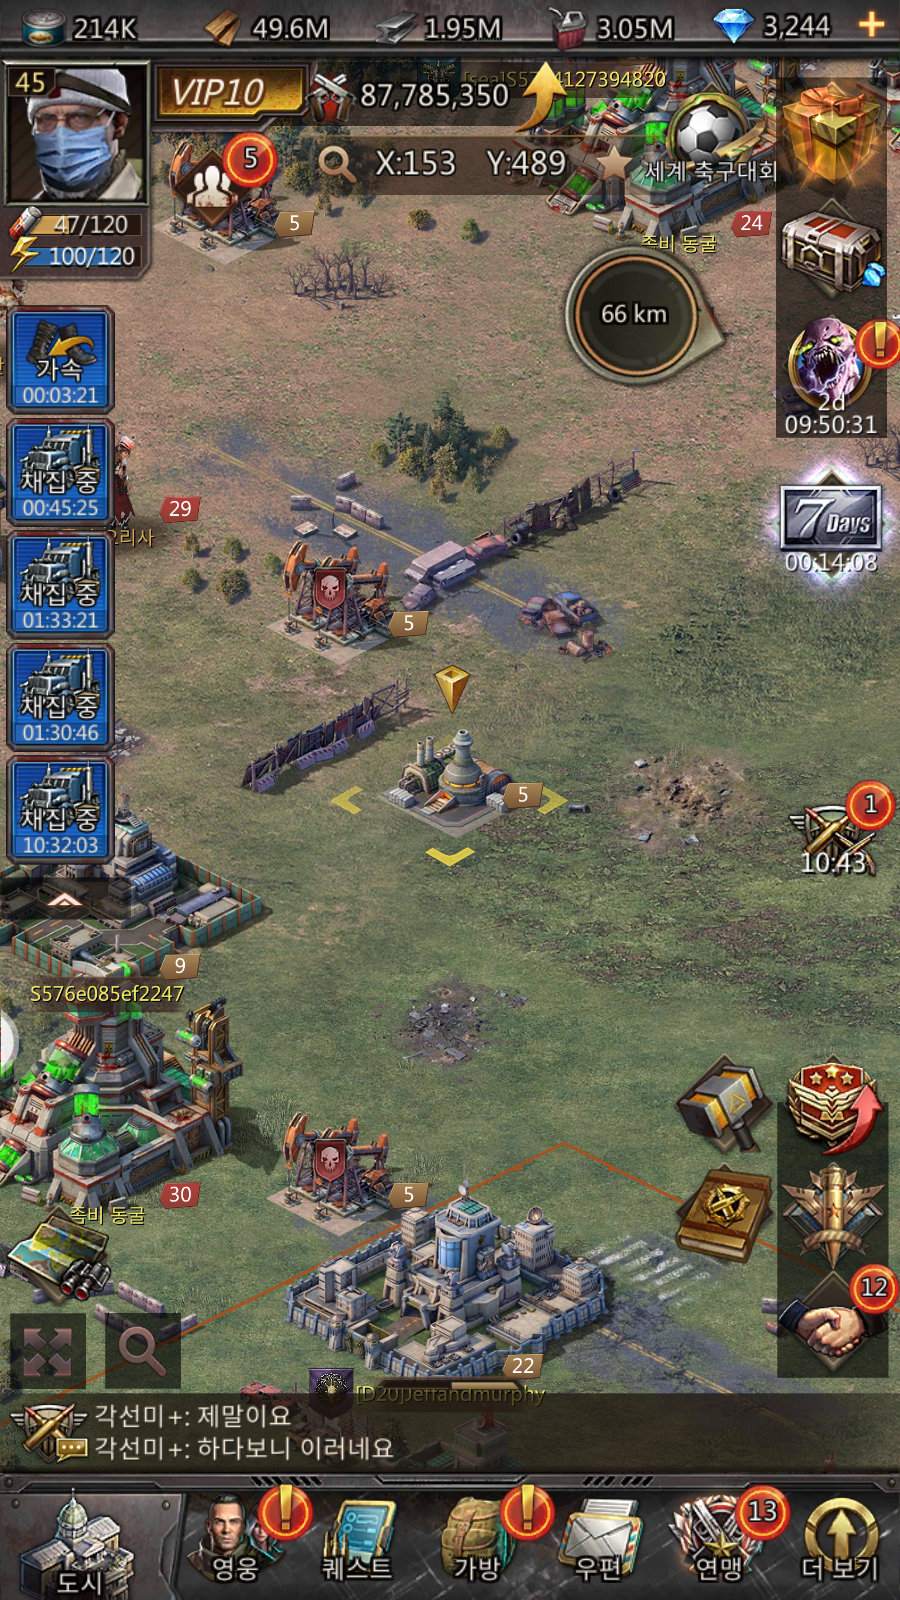city: (11, 1493, 179, 1600)
empty_steel: (318, 658, 587, 880)
open_panel: (100, 1307, 189, 1393)
troops_cnt_5: (162, 118, 285, 255)
